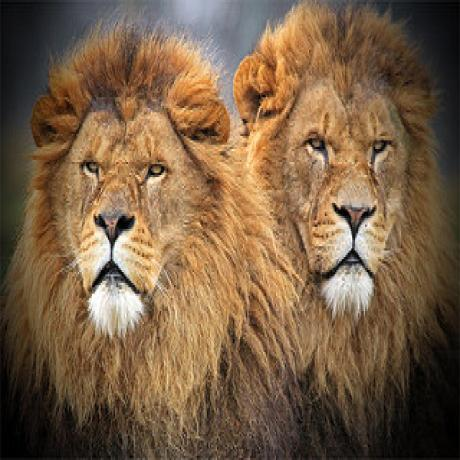Lion: (9, 0, 262, 460), (236, 0, 440, 450)
